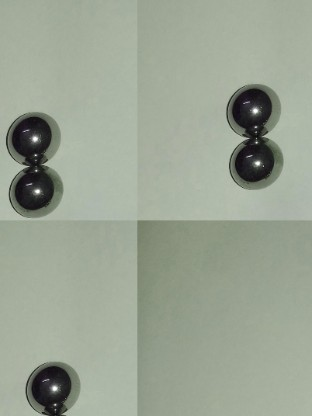ironball: (223, 84, 289, 140), (229, 136, 287, 196), (5, 108, 70, 161), (6, 164, 71, 216), (22, 361, 81, 414)
